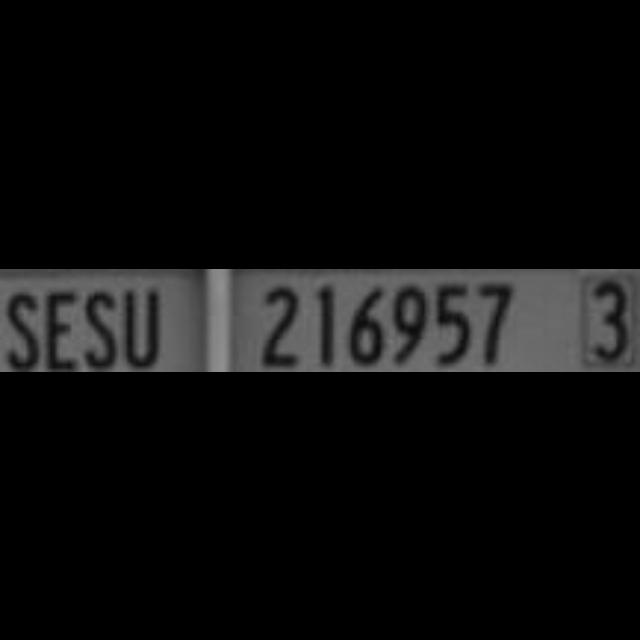1: (309, 277, 347, 371)
2: (253, 280, 304, 370)
3: (586, 276, 630, 360)
5: (430, 274, 476, 371)
6: (346, 275, 392, 371)
7: (475, 271, 519, 371)
9: (388, 274, 430, 371)
e: (40, 283, 86, 371)
s: (0, 284, 44, 372), (85, 286, 123, 370)
u: (122, 282, 168, 371)
